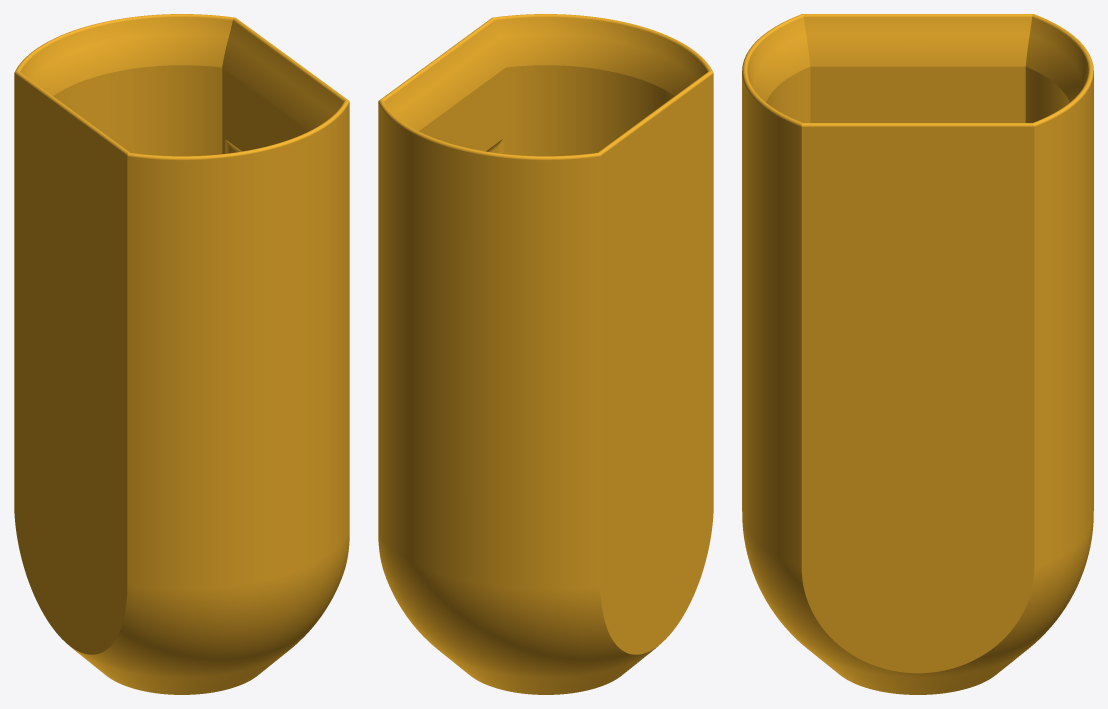
Rendered from squeezbottle v63_squeezbottle v63_Top_1_Body1_Top.obj.
3 views of the same model, side by side, from view 1: azimuth 30°, elevation 25°; view 2: azimuth 150°, elevation 25°; view 3: azimuth 270°, elevation 25° (orthographic). The views are drawn at different scales.
Visible parts, largest first — view 1: Body1; view 2: Body1; view 3: Body1.
Boxes of the visible parts, x1=… form: Body1: x1=14, y1=14, x2=349, y2=694; Body1: x1=378, y1=14, x2=713, y2=694; Body1: x1=742, y1=14, x2=1093, y2=694.
Bounding box in the file's own units: 18 × 44.35 × 24.
